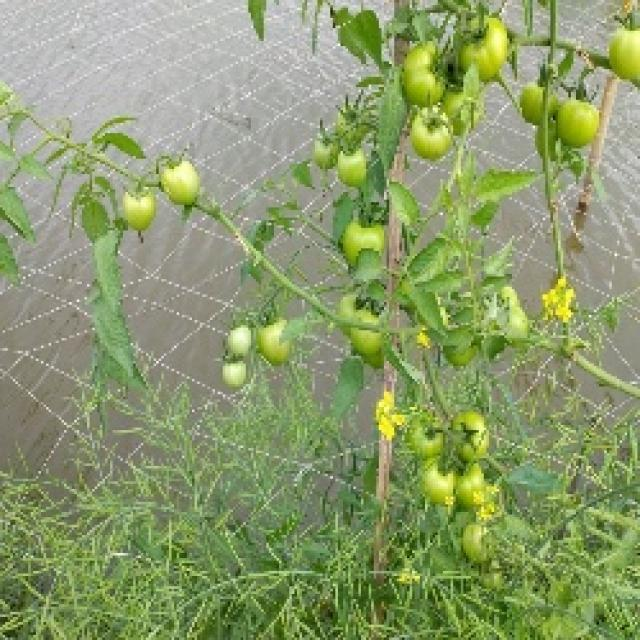tomato: (551, 92, 605, 147), (465, 22, 517, 79), (405, 46, 445, 106), (409, 106, 458, 154), (491, 283, 532, 340), (605, 21, 640, 86), (158, 157, 202, 207), (457, 412, 498, 462), (119, 183, 160, 230), (344, 219, 391, 260), (454, 459, 497, 503), (253, 319, 290, 362), (523, 80, 550, 132), (413, 423, 452, 459), (418, 459, 452, 500), (441, 89, 481, 123), (462, 517, 490, 563), (348, 323, 382, 359), (341, 149, 370, 189), (216, 360, 254, 390), (341, 296, 380, 321), (332, 104, 369, 127), (227, 323, 251, 355), (314, 128, 334, 164)
